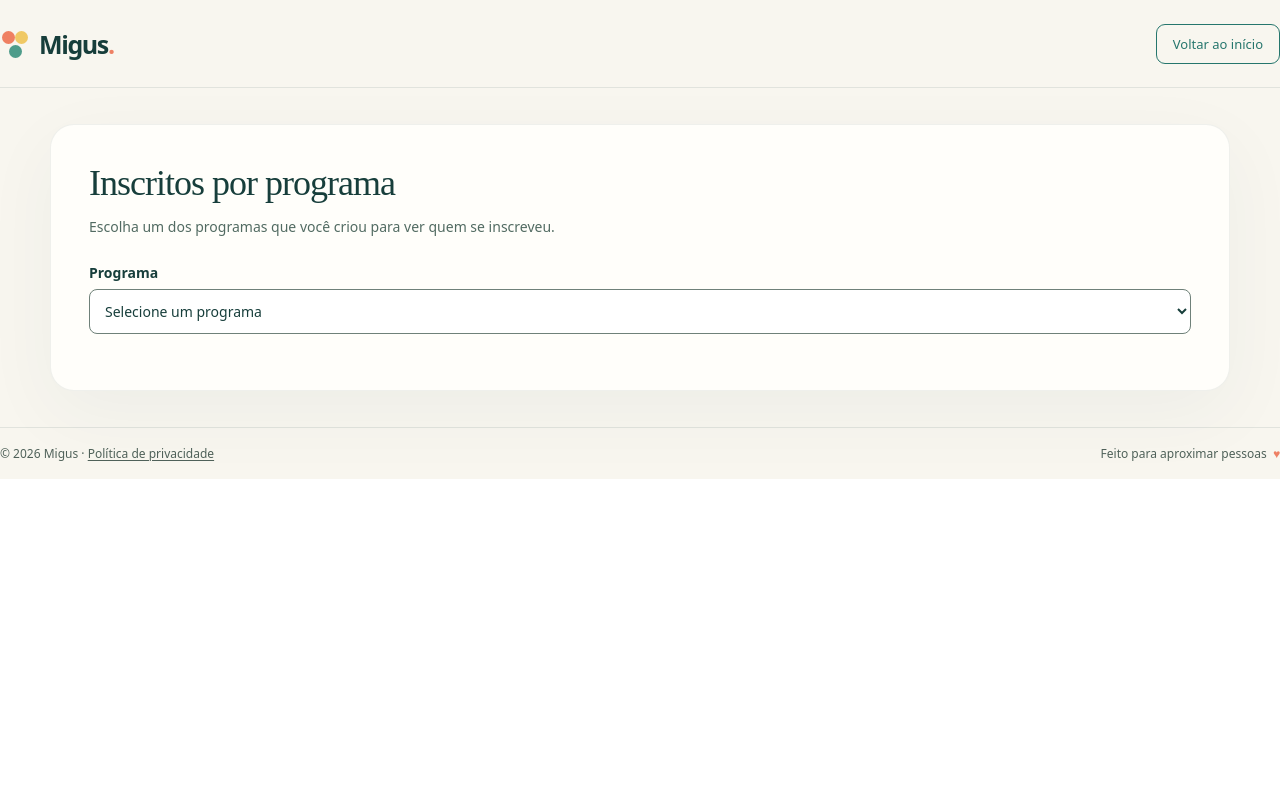
mostra uma prévia da mensagem e permite consultar o texto completo
The image size is (1280, 796).
Select "Minha horta" in the dropdown at (640, 311), box [89, 289, 1191, 334]
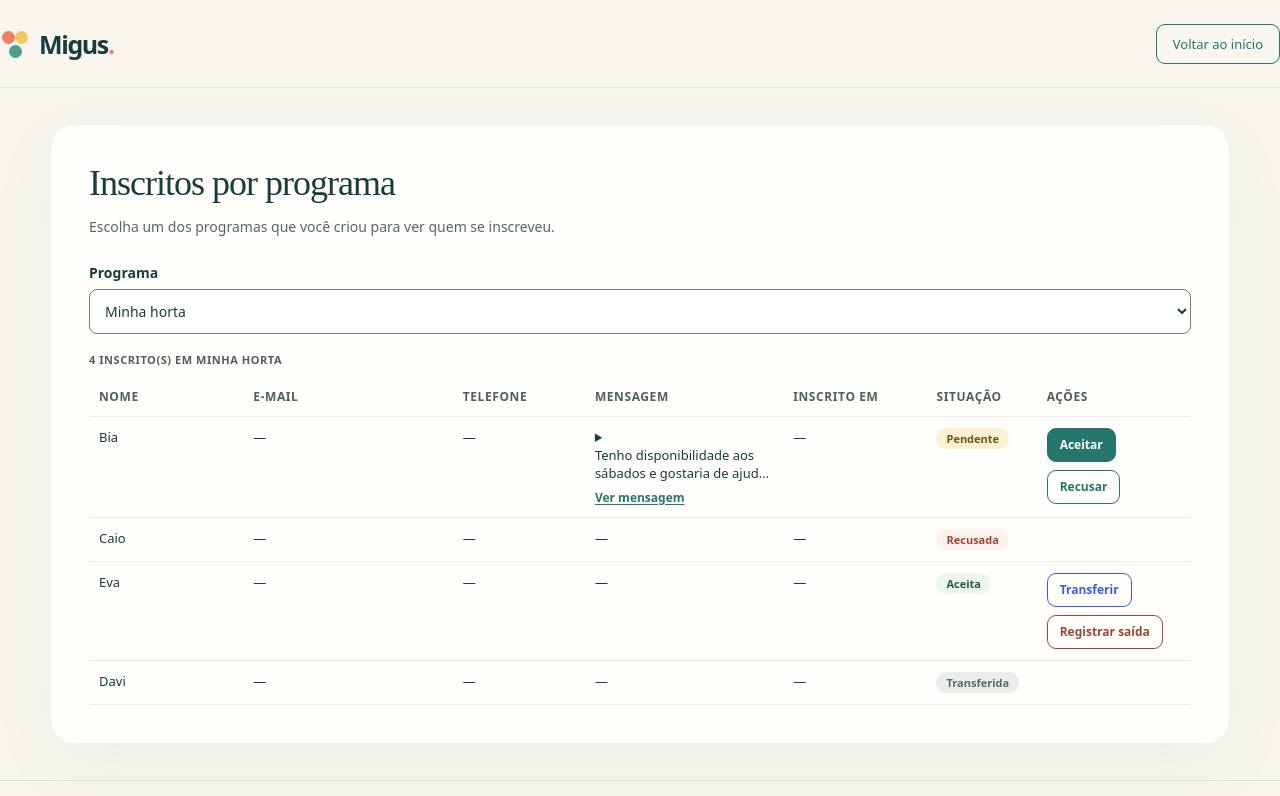
Click the text "Ver mensagem" at (640, 497), box [595, 489, 685, 506]
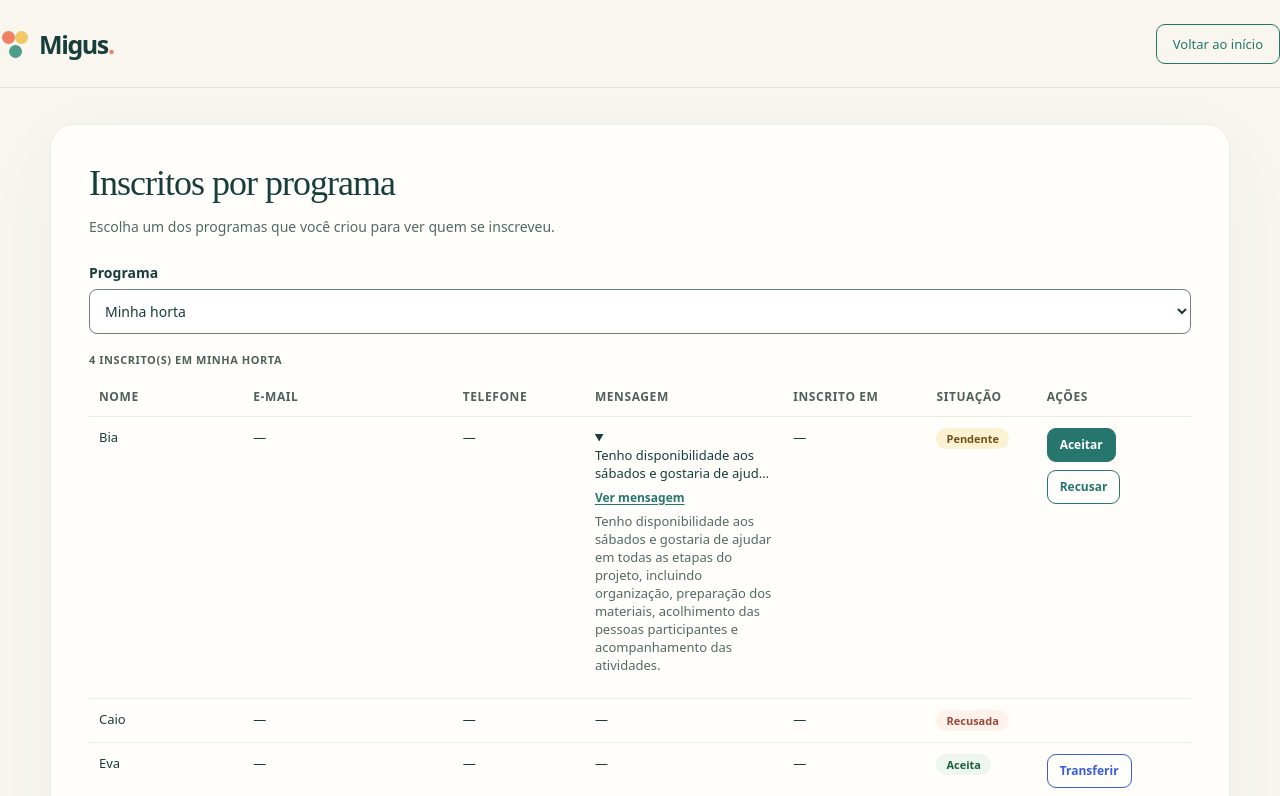
expect the text "Tenho disponibilidade aos sábados e gostaria de ajudar em todas as etapas do projeto, incluindo organização, preparação " is shown: met, box [595, 512, 775, 674]
